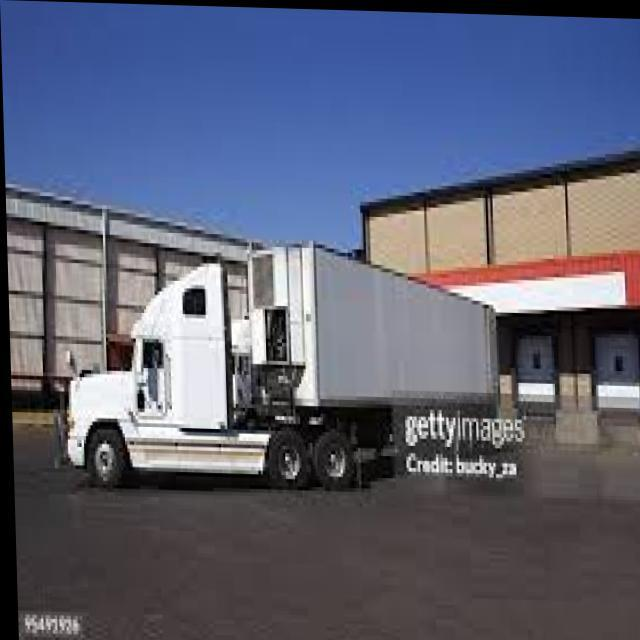covered: (53, 230, 510, 498)
